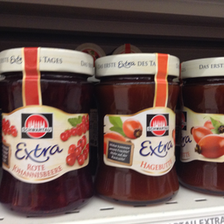jam: (1, 47, 95, 216), (95, 55, 184, 205), (180, 56, 224, 193)
